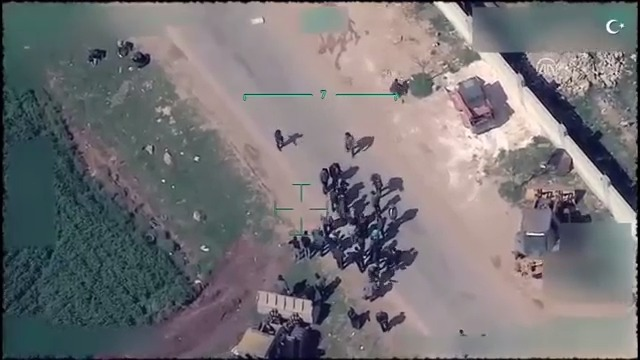insan: (287, 231, 305, 261), (339, 128, 358, 156), (346, 305, 365, 331), (271, 126, 285, 154), (129, 50, 150, 67)
